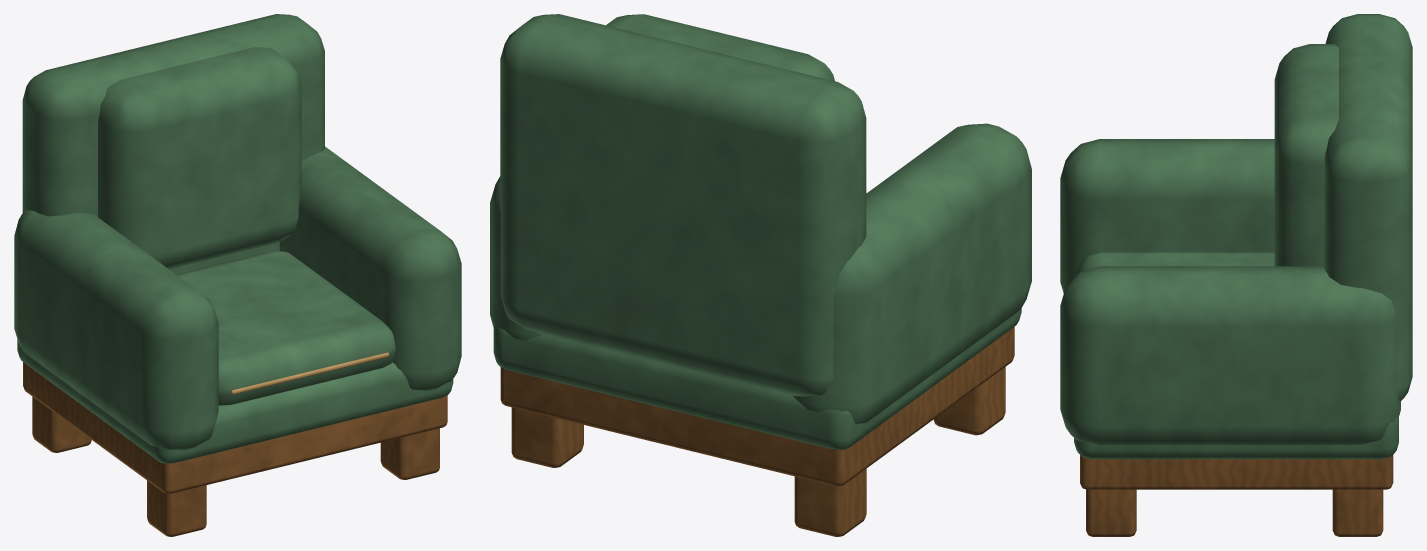
Rendered from Furn_Armchair.fbx.
3 renders of one model, left to right at view 1: azimuth 30°, elevation 25°; view 2: azimuth 150°, elevation 25°; view 3: azimuth 270°, elevation 25°, orthographic. The views are drawn at different scales.
Visible parts, largest first — view 1: Furn_Armchair_Mesh; view 2: Furn_Armchair_Mesh; view 3: Furn_Armchair_Mesh.
Part boxes in pixels (x1,y1,x2,y2): Furn_Armchair_Mesh: (14,14,461,536); Furn_Armchair_Mesh: (490,14,1031,536); Furn_Armchair_Mesh: (1060,14,1412,536).
Bounding box in the file's own units: 1 × 1.1 × 0.8995.
